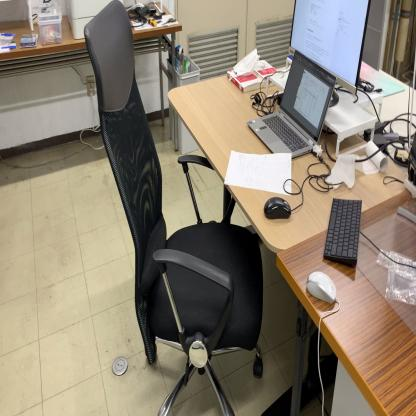chair: (84, 0, 264, 416)
